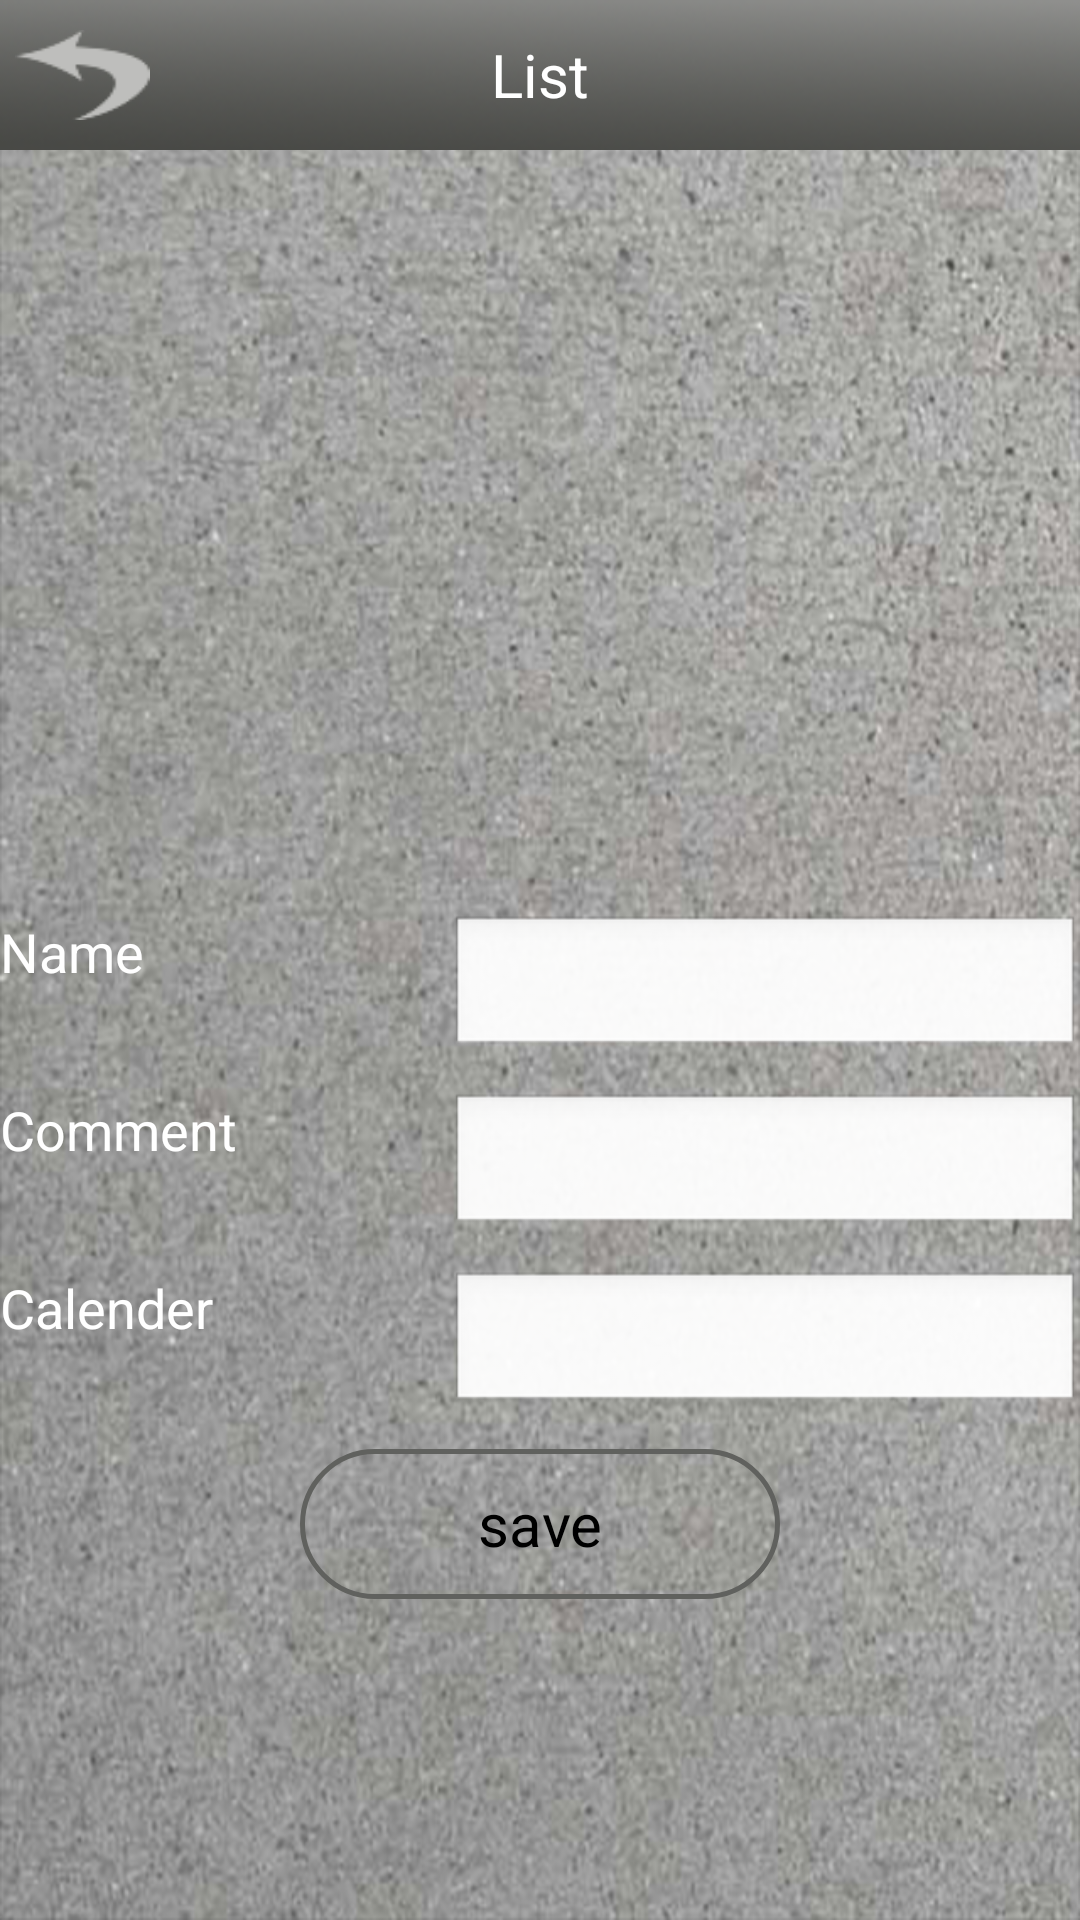

Where to tap for icons on this 1080×1920 app screen, as [x,y]:
backbutton: [82,75]
